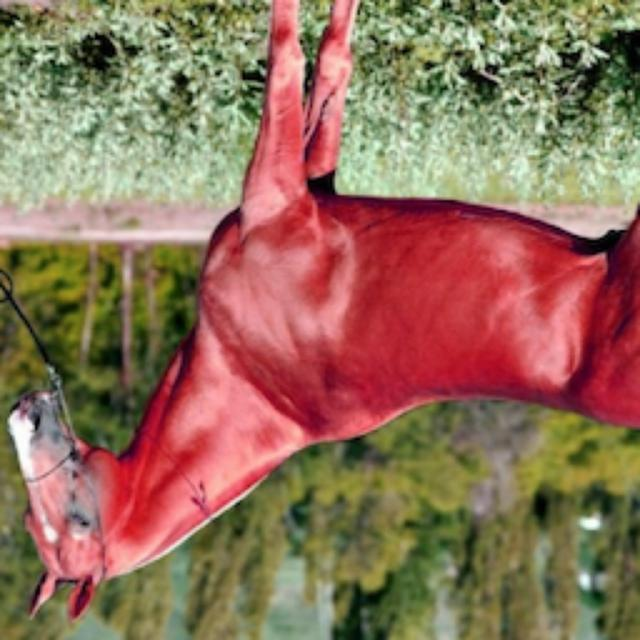Horse: (2, 2, 640, 626)
